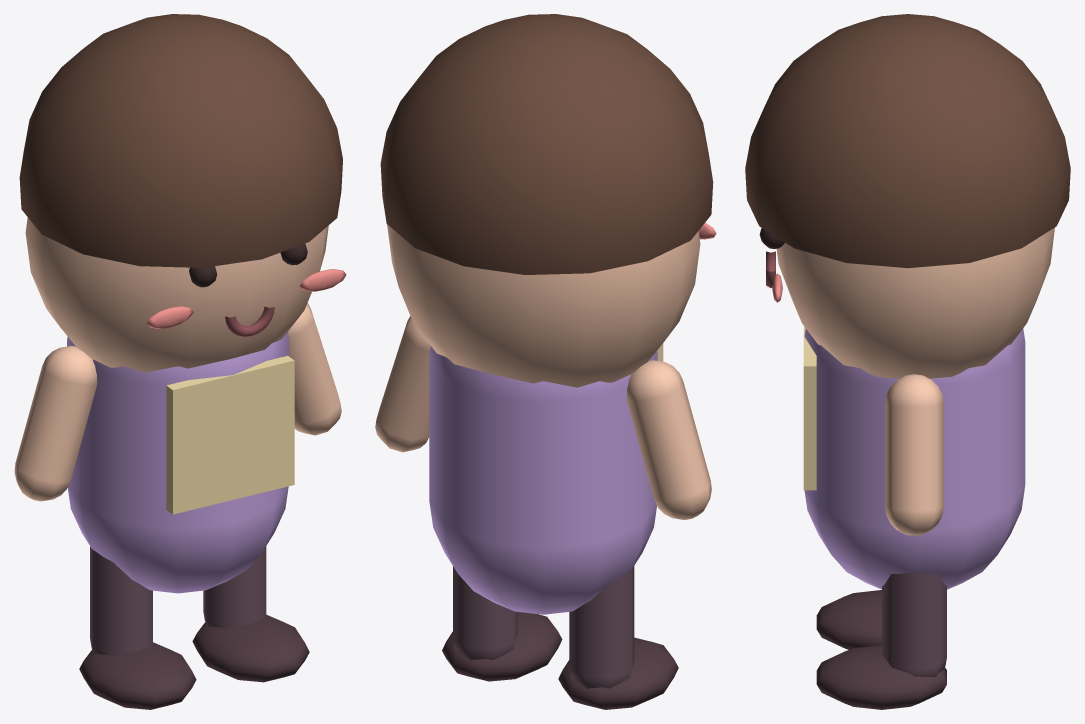
The model's file is customer-cute-04.glb.
3 views of the same model, side by side, from view 1: azimuth 30°, elevation 25°; view 2: azimuth 150°, elevation 25°; view 3: azimuth 270°, elevation 25° (orthographic). The views are drawn at different scales.
Bounding box in the file's own units: 1.13 × 2.18 × 0.9983.
